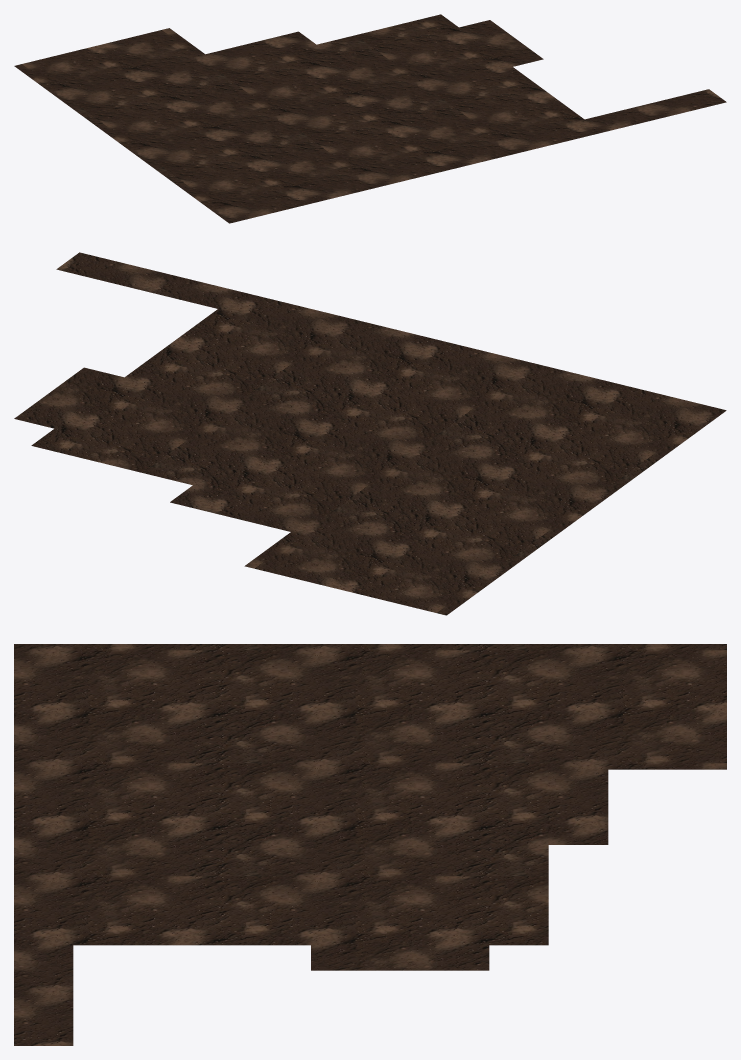
File: floor_1_-12.glb
3 renders of one model, top to bottom at view 1: azimuth 30°, elevation 25°; view 2: azimuth 150°, elevation 25°; view 3: azimuth 270°, elevation 25°, orthographic. The views are drawn at different scales.
Parts seen in each view (by area): view 1: floor_1_-12; view 2: floor_1_-12; view 3: floor_1_-12.
Boxes of the visible parts, bbox=[...] form: floor_1_-12: bbox=[14, 14, 726, 223]; floor_1_-12: bbox=[14, 252, 726, 615]; floor_1_-12: bbox=[14, 644, 726, 1045].
Bounding box in the file's own units: 64 × 0 × 48.
1 material, 1 textured.
